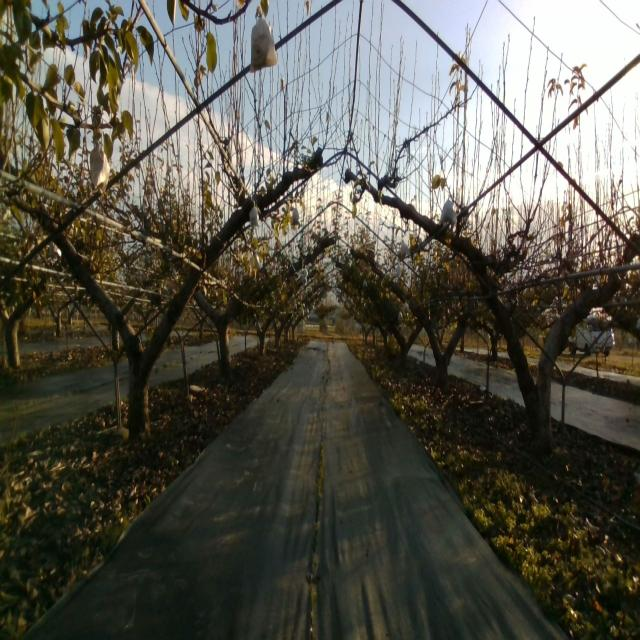pearbags: (249, 7, 278, 74), (89, 150, 110, 198), (438, 199, 458, 227), (248, 200, 260, 228)
